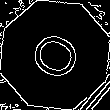O_SE: (22, 24, 88, 86)
